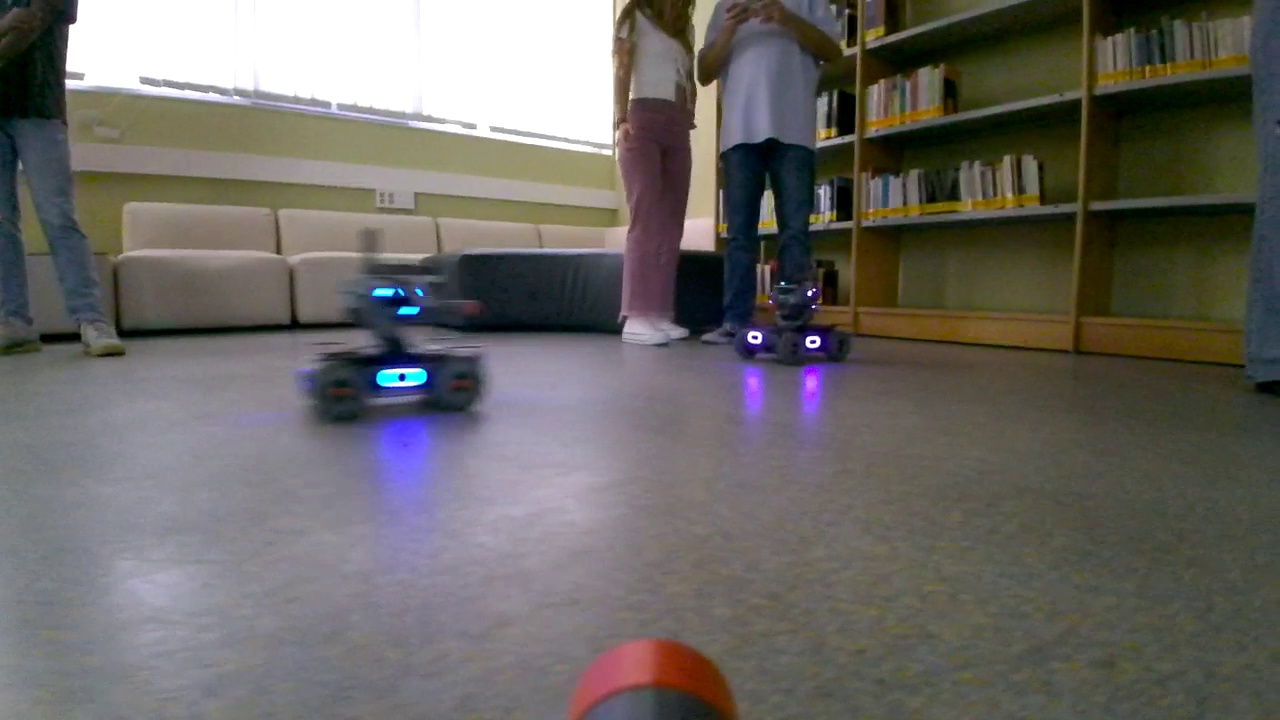robot: (307, 254, 490, 420), (728, 275, 852, 372)
